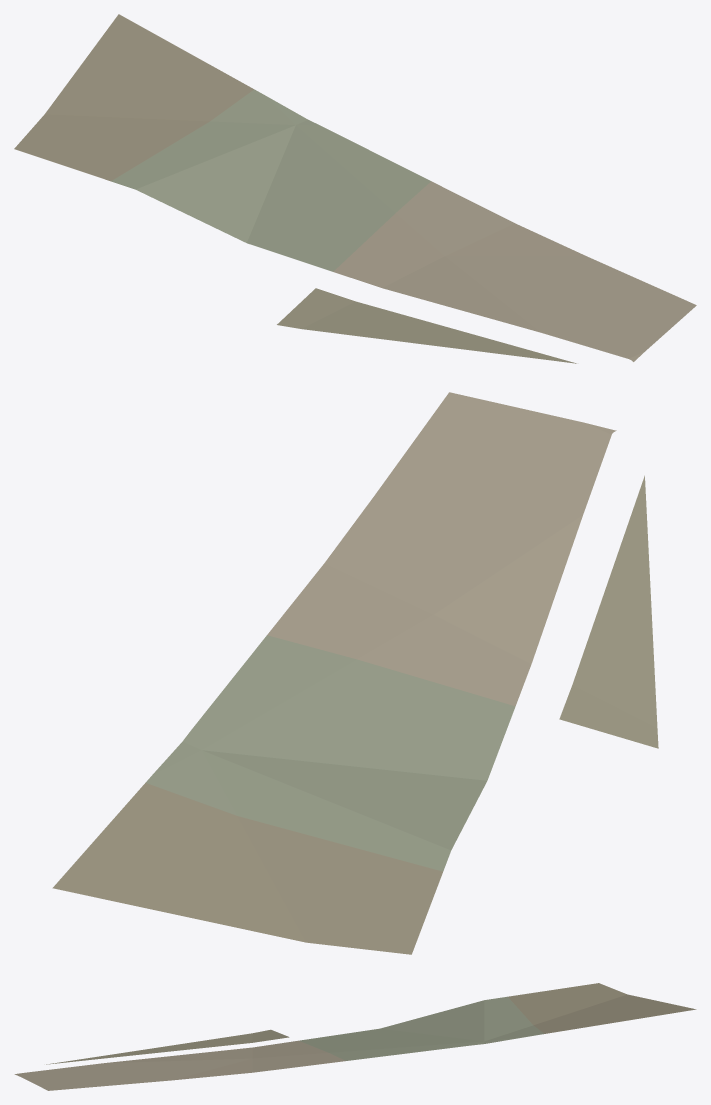
Rendered from farm_-7_14_soil.glb.
3 renders of one model, top to bottom at view 1: azimuth 30°, elevation 25°; view 2: azimuth 150°, elevation 25°; view 3: azimuth 270°, elevation 25°, orthographic. The views are drawn at different scales.
Visible parts, largest first — view 1: geometry_0; view 2: geometry_0; view 3: geometry_0.
Part boxes in pixels (x1,y1,x2,y2): geometry_0: (14, 14, 696, 363); geometry_0: (52, 392, 658, 954); geometry_0: (14, 983, 696, 1090).
Size of the model in its own units: 102 by 24.42 by 236.
